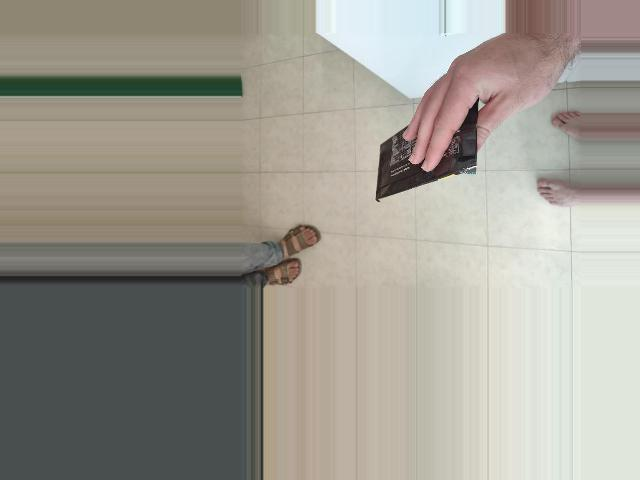chocolate: (323, 157, 450, 302)
